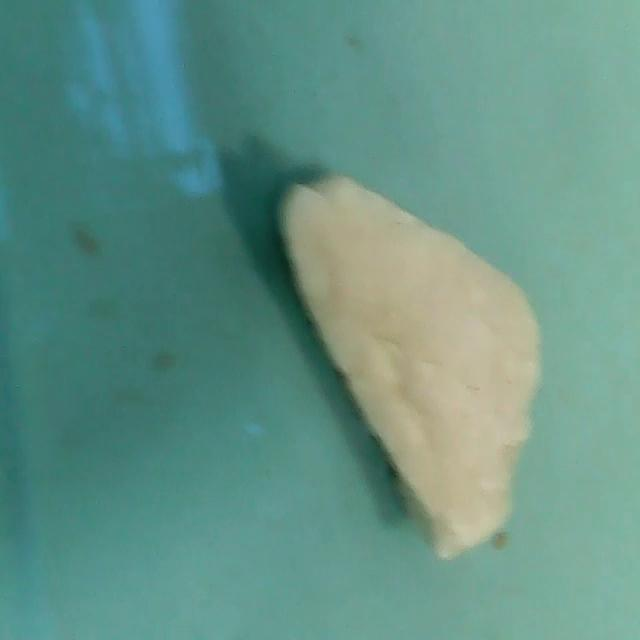rock: (267, 163, 551, 568)
